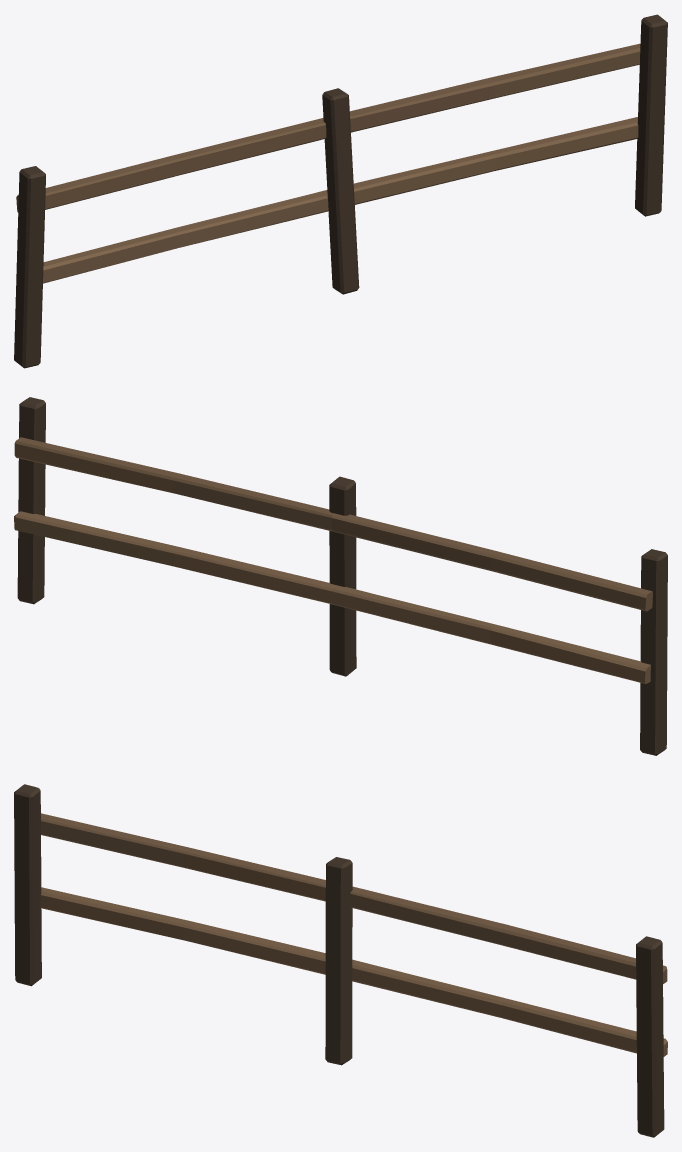
The model's file is wood_fence.glb.
The picture shows the model from 3 angles, top to bottom: view 1: azimuth 30°, elevation 25°; view 2: azimuth 150°, elevation 25°; view 3: azimuth 330°, elevation 25°; orthographic projection.
Parts seen in each view (by area): view 1: wood_fence; view 2: wood_fence; view 3: wood_fence.
Boxes of the visible parts, x1,y1,x2,y2 form: wood_fence: (14, 14, 667, 368); wood_fence: (14, 397, 667, 755); wood_fence: (14, 784, 667, 1137).
Size of what is drawn, in the model's own units: 4.13 by 1.21 by 0.2127.
